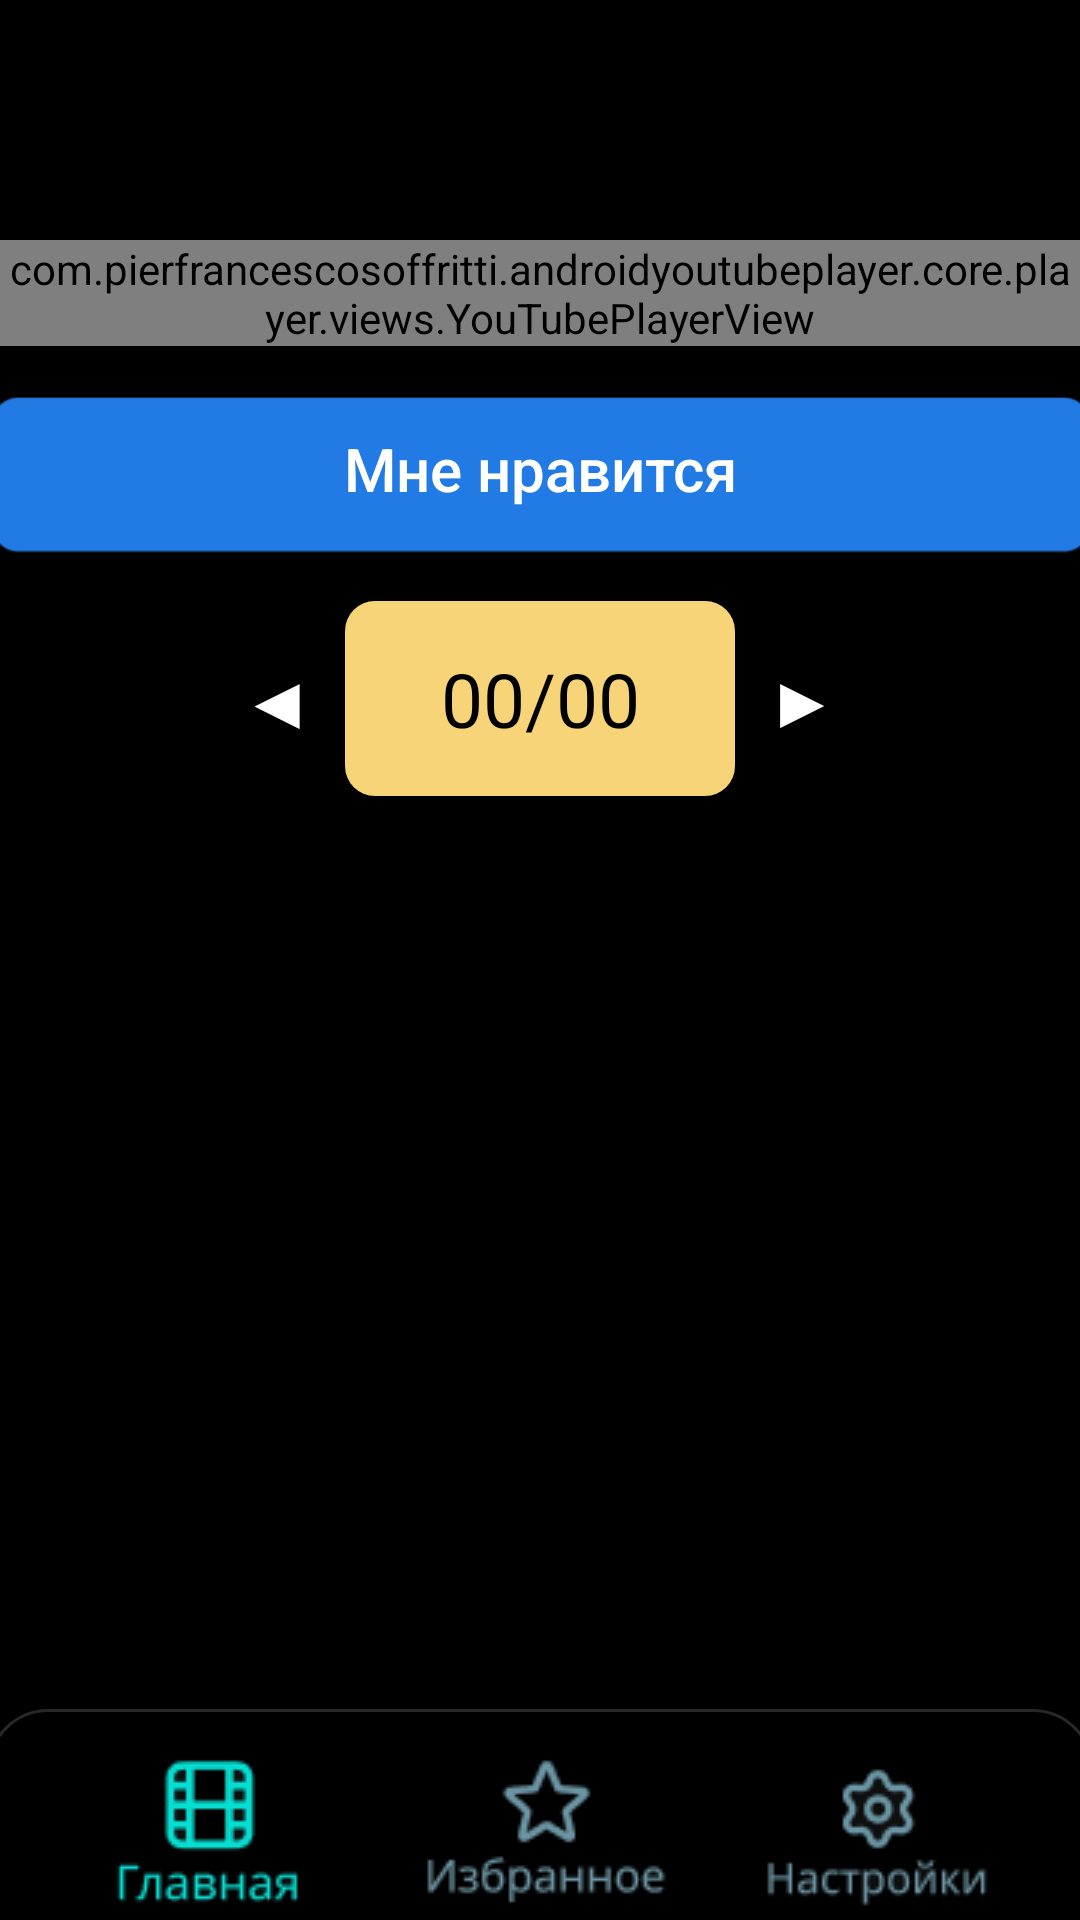

Icon click points for this 1080px x 1920px phone screenshot, format (x,y):
topnot: (546,1831)
